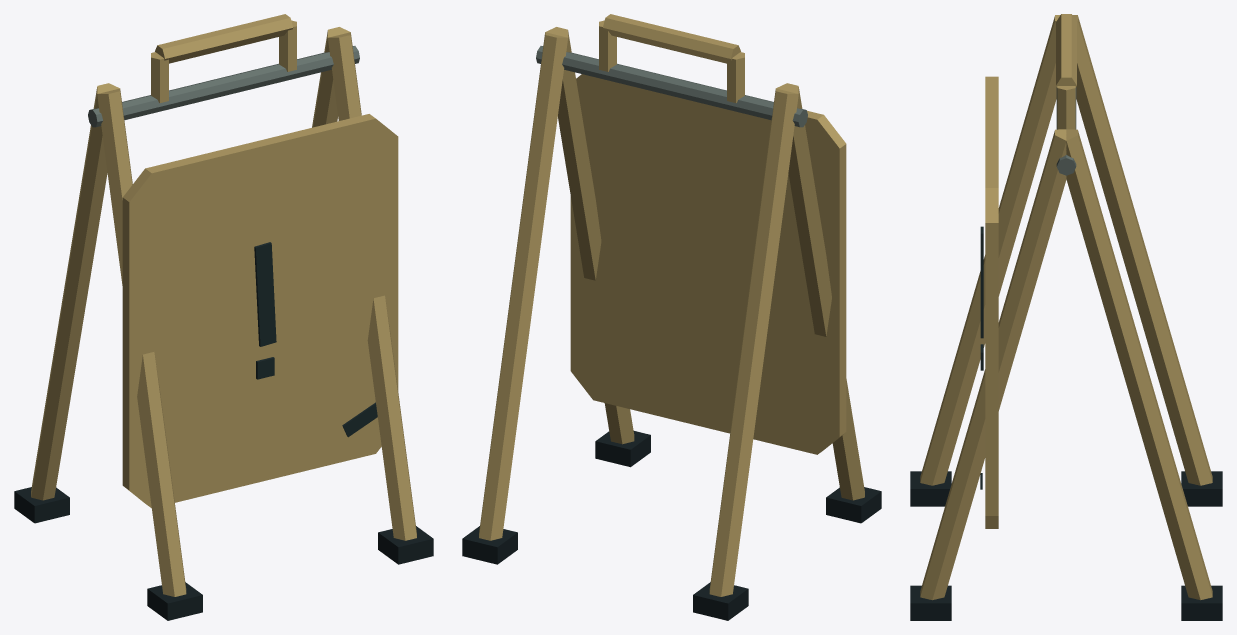
File: warning-stand.glb
The picture shows the model from 3 angles, left to right: view 1: azimuth 30°, elevation 25°; view 2: azimuth 150°, elevation 25°; view 3: azimuth 270°, elevation 25°; orthographic projection.
Visible parts, largest first — view 1: warning-stand; view 2: warning-stand; view 3: warning-stand.
Part boxes in pixels (<box>): warning-stand: <box>14,14,433,620</box>; warning-stand: <box>462,14,881,620</box>; warning-stand: <box>910,14,1222,620</box>.
Size of the model in its own units: 0.42 by 0.7471 by 0.415.
